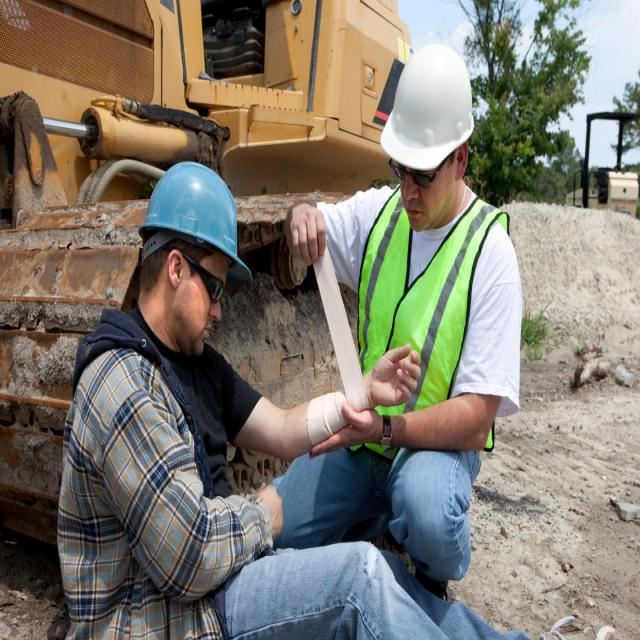Reflective-Jacket: (353, 186, 511, 456)
Safety-Helmet: (136, 156, 252, 279), (378, 37, 479, 170)
